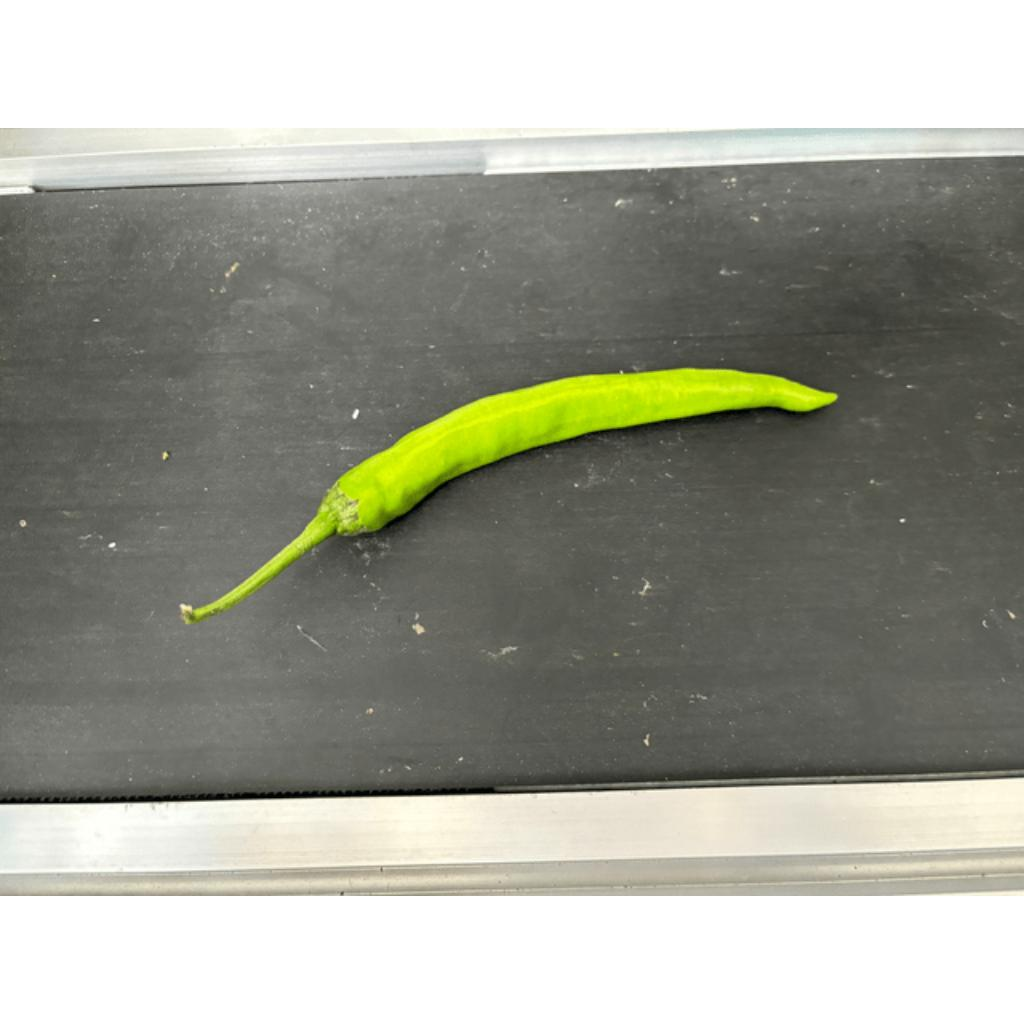chili: (313, 367, 845, 537)
